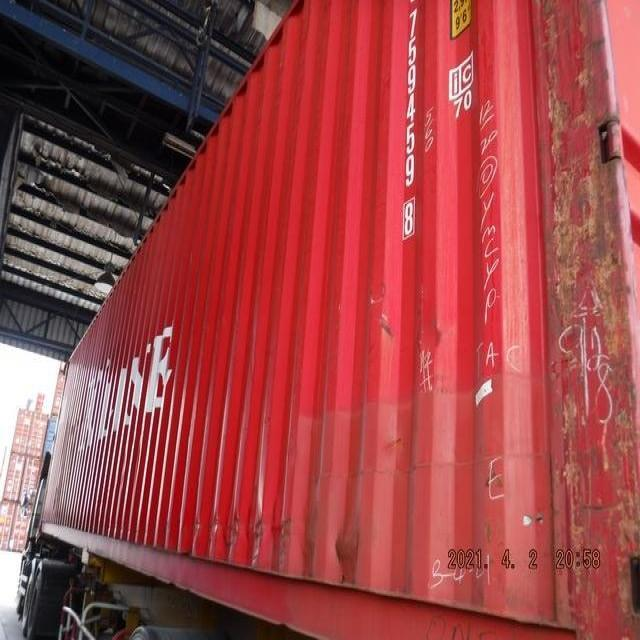Minor-Dent: (186, 504, 379, 571)
